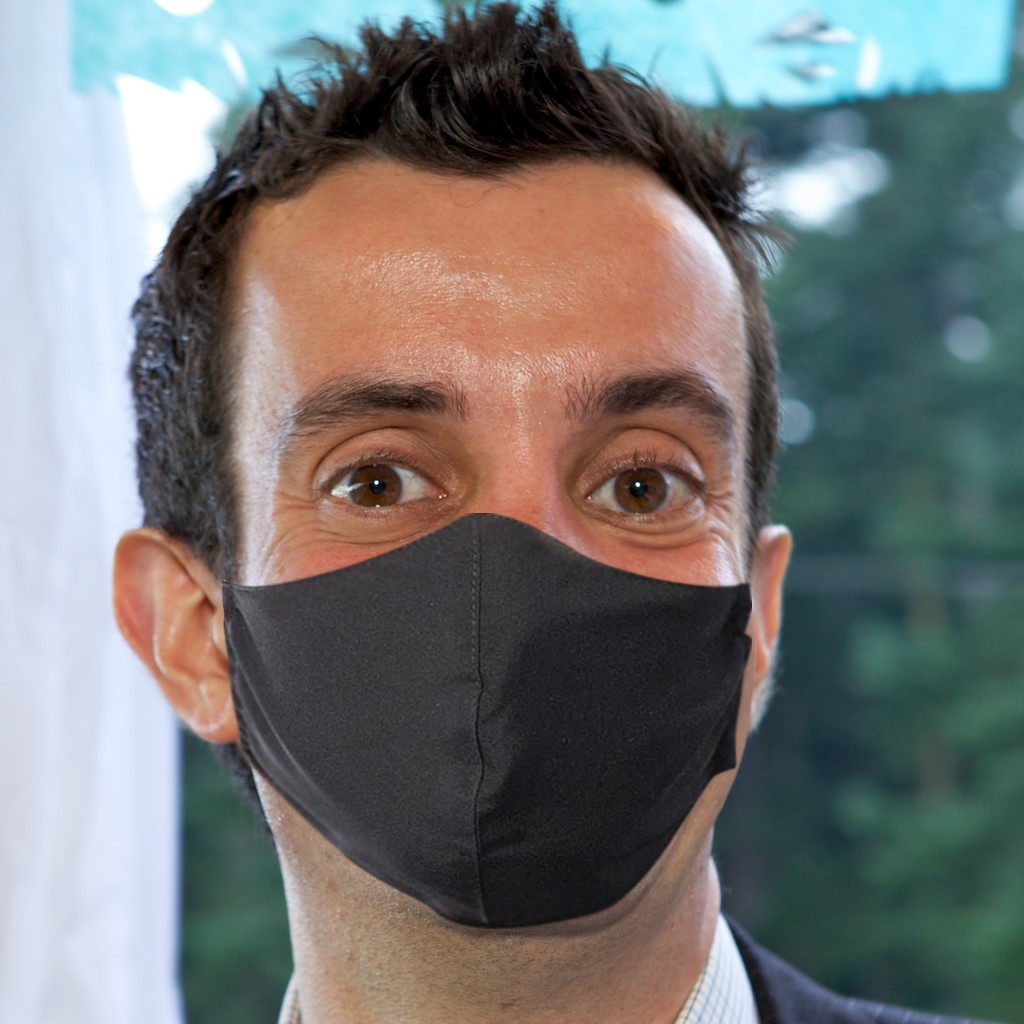con_mascara: (179, 121, 784, 932)
